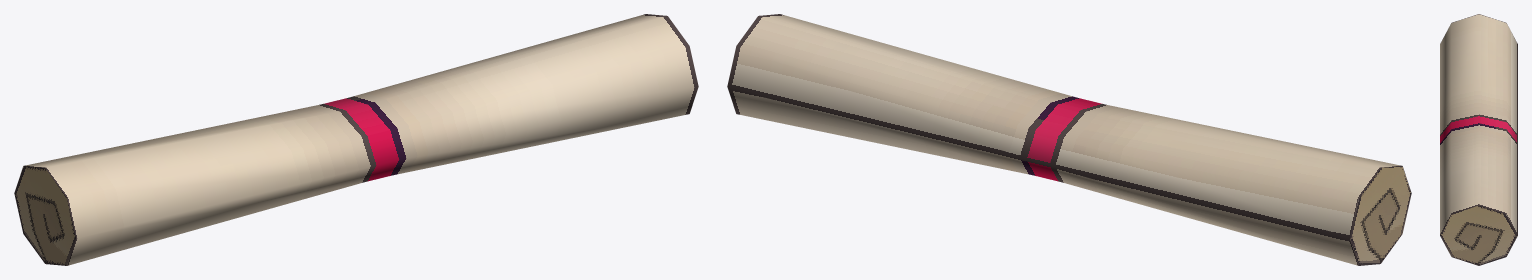
File: scroll.FBX
3 renders of one model, left to right at view 1: azimuth 30°, elevation 25°; view 2: azimuth 150°, elevation 25°; view 3: azimuth 270°, elevation 25°, orthographic. The views are drawn at different scales.
Visible parts, largest first — view 1: Cylinder002; view 2: Cylinder002; view 3: Cylinder002.
Part boxes in pixels (box(x1,y1,x2,y2)): Cylinder002: box(14, 14, 698, 265); Cylinder002: box(727, 14, 1411, 265); Cylinder002: box(1440, 14, 1517, 265).
Bounding box in the file's own units: 85.61 × 12.65 × 14.73.
